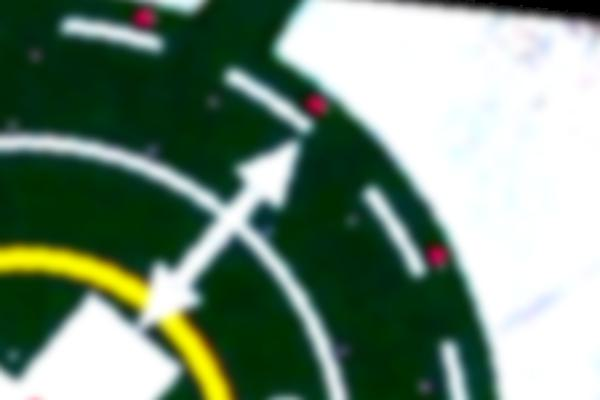Apron: (1, 231, 242, 400)
